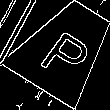P_NE: (33, 18, 96, 80)
